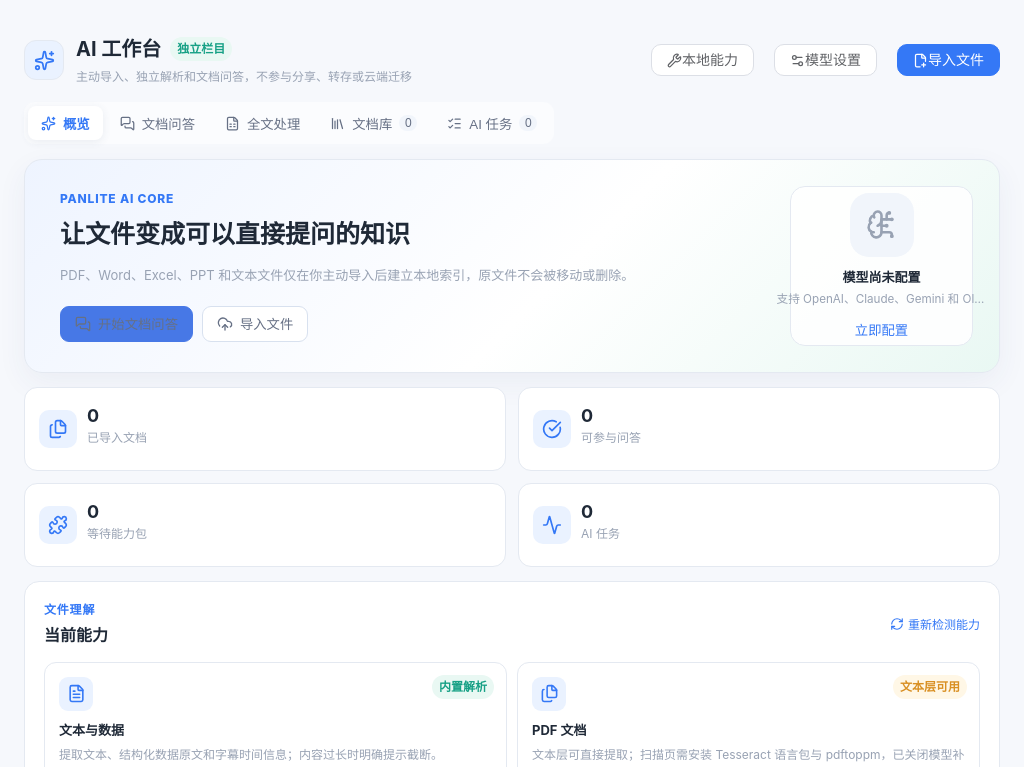
Scenario: AI capability availability › redetects tools on request, disables concurrent requests, and replaces old availability
Click the button "重新检测能力": (935, 624) [890, 615, 980, 632]
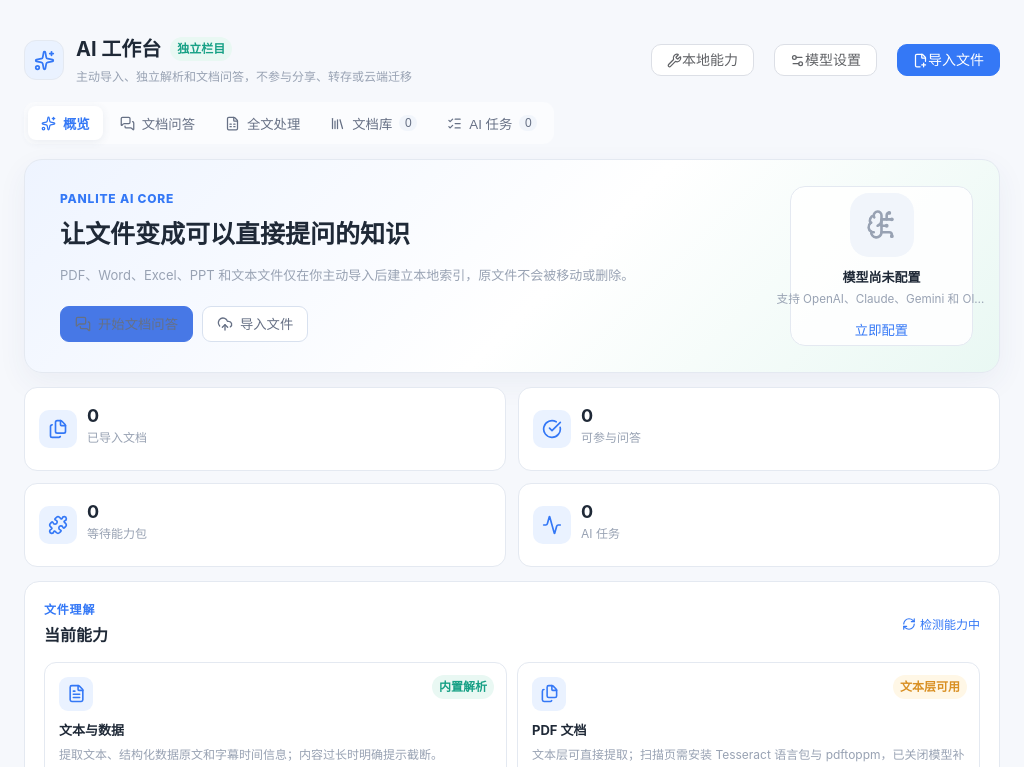
Check: the button "检测能力中" is disabled
Check: the button "检测能力中" is shown
Click the button "检测能力中": (941, 624) [902, 615, 980, 632]
(page scrolled)
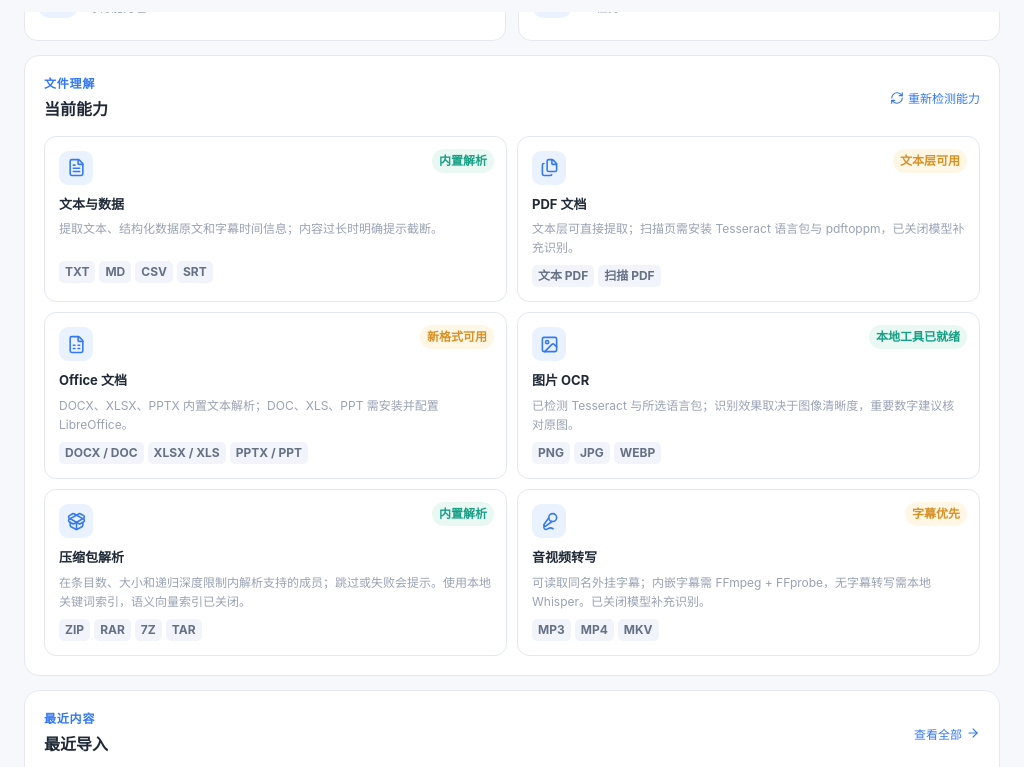
Check: the button "重新检测能力" is enabled, box [890, 89, 980, 106]
Check: the element that starts with "本地工具已就绪" is shown, box [876, 330, 960, 344]
